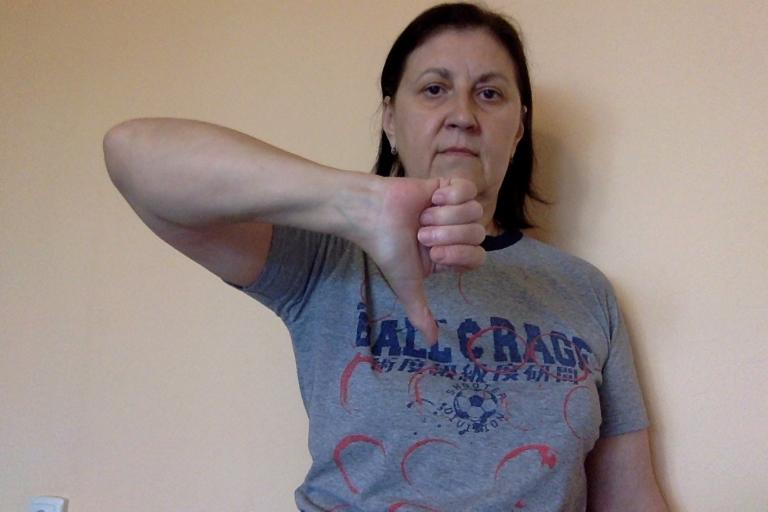dislike: (360, 166, 493, 353)
